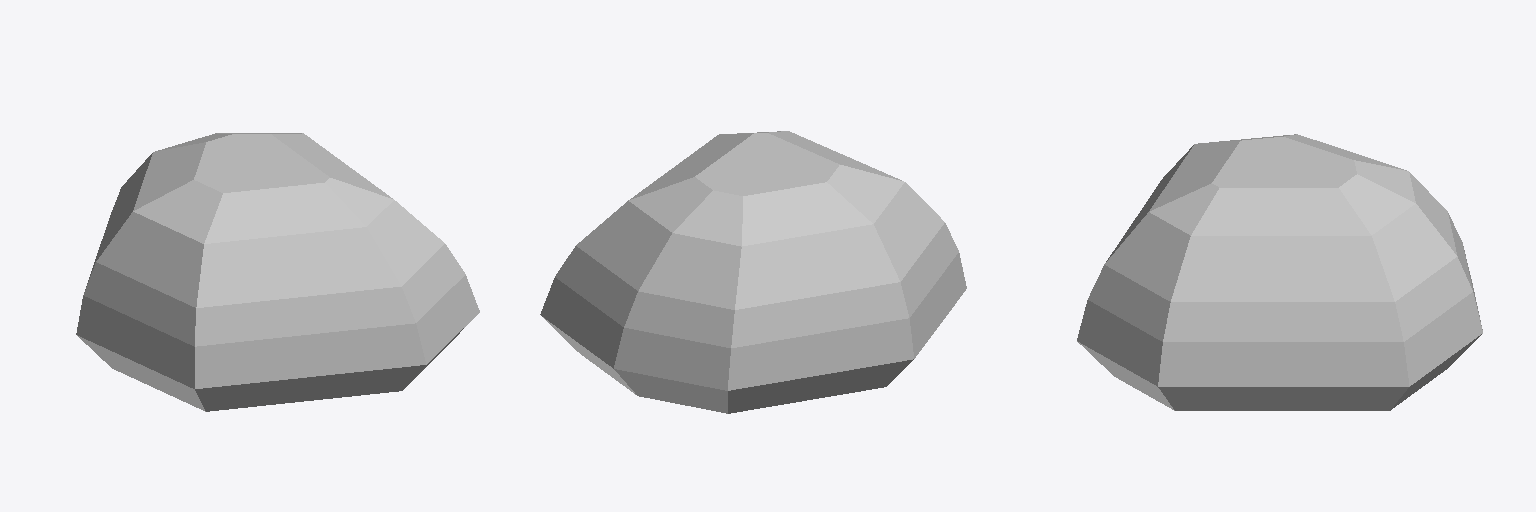
Rendered from rock2.obj.
The picture shows the model from 3 angles: view 1: azimuth 30°, elevation 25°; view 2: azimuth 150°, elevation 25°; view 3: azimuth 270°, elevation 25°; orthographic projection.
Parts seen in each view (by area): view 1: polySurface1; view 2: polySurface1; view 3: polySurface1.
Part boxes in pixels (left/top/right/bottom): polySurface1: left=76, top=133, right=479, bottom=411; polySurface1: left=540, top=131, right=966, bottom=413; polySurface1: left=1077, top=134, right=1482, bottom=410.
Size of the model in its own units: 41.93 by 22.07 by 45.26.